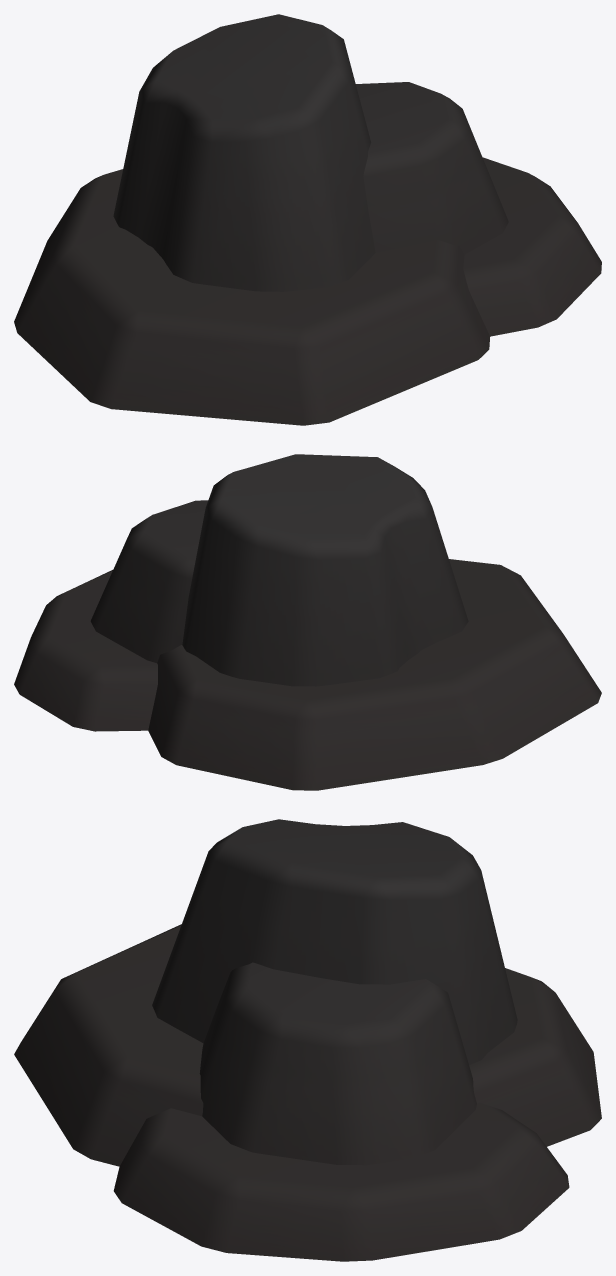
File: inferno-rock-small-002.glb
3 renders of one model, top to bottom at view 1: azimuth 30°, elevation 25°; view 2: azimuth 150°, elevation 25°; view 3: azimuth 270°, elevation 25°, orthographic. The views are drawn at different scales.
Parts seen in each view (by area): view 1: RockSmall_002; view 2: RockSmall_002; view 3: RockSmall_002.
Boxes of the visible parts, bbox=[...] form: RockSmall_002: bbox=[14, 14, 601, 425]; RockSmall_002: bbox=[14, 454, 601, 790]; RockSmall_002: bbox=[14, 819, 601, 1261].
Size of the model in its own units: 5 by 2.1 by 4.25.
1 material, 1 textured.
